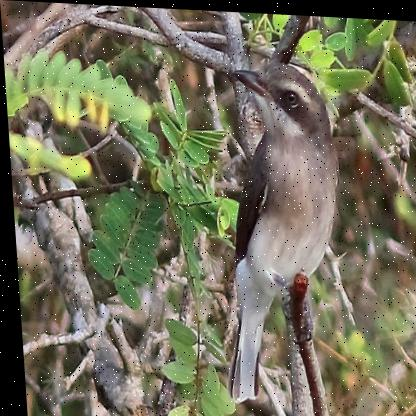Burung: (206, 58, 349, 404)
